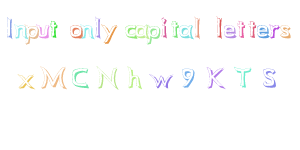9: (180, 66, 194, 88)
C: (71, 67, 90, 89)
I: (3, 16, 18, 41)
K: (206, 66, 227, 90)
M: (39, 64, 68, 89)
N: (96, 66, 120, 90)
S: (261, 66, 277, 89)
T: (232, 66, 252, 88)
a: (179, 23, 193, 38), (136, 24, 148, 39)
c: (124, 22, 136, 40)
e: (223, 23, 237, 38), (257, 23, 269, 39)
h: (127, 65, 142, 89)
i: (160, 16, 169, 39)
l: (212, 14, 224, 38), (193, 15, 203, 40), (93, 15, 103, 39)
n: (80, 22, 95, 40), (14, 22, 27, 39)
o: (69, 23, 84, 40)
p: (24, 24, 40, 45), (148, 24, 161, 45)
r: (269, 23, 280, 40)
s: (281, 23, 292, 40)
t: (49, 17, 59, 39), (169, 19, 180, 39), (236, 18, 247, 38), (246, 19, 257, 38)
u: (35, 23, 50, 39)
w: (148, 72, 173, 89)
x: (16, 72, 35, 89)
y: (102, 23, 117, 44)
